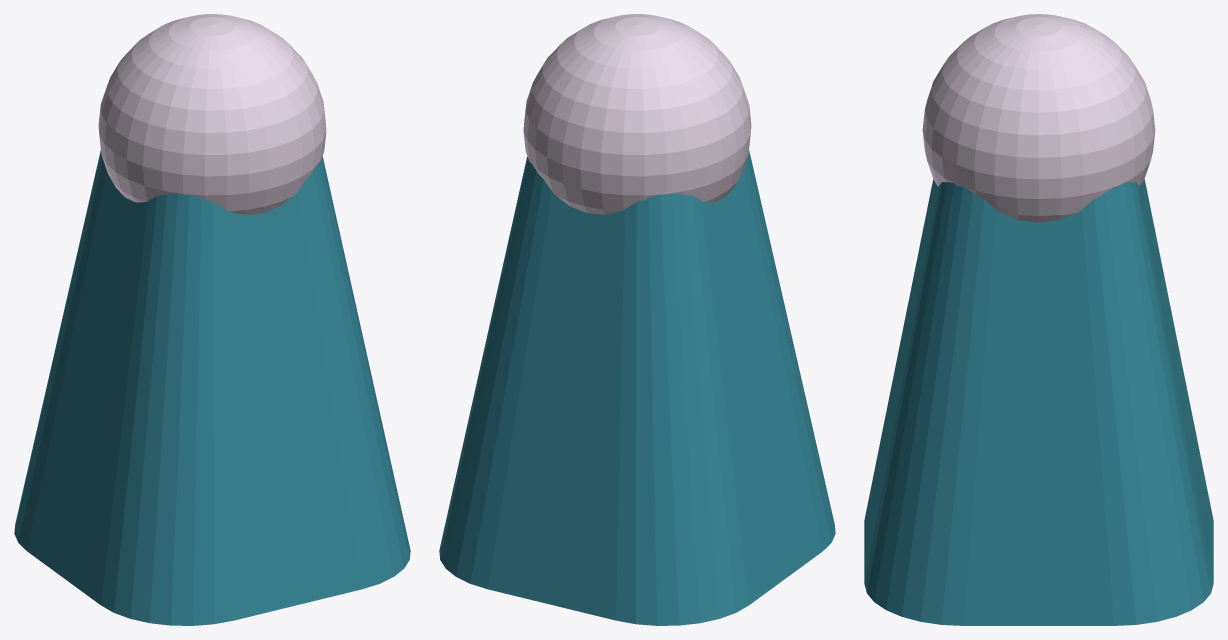
Rendered from pion1.glb.
3 renders of one model, left to right at view 1: azimuth 30°, elevation 25°; view 2: azimuth 150°, elevation 25°; view 3: azimuth 270°, elevation 25°, orthographic.
Visible parts, largest first — view 1: Sphere; view 2: Sphere; view 3: Sphere.
Part boxes in pixels (left/top/right/bottom): Sphere: left=14, top=14, right=410, bottom=625; Sphere: left=439, top=14, right=835, bottom=625; Sphere: left=864, top=14, right=1213, bottom=625.
Size of the model in its own units: 0.375 by 0.625 by 0.375.
